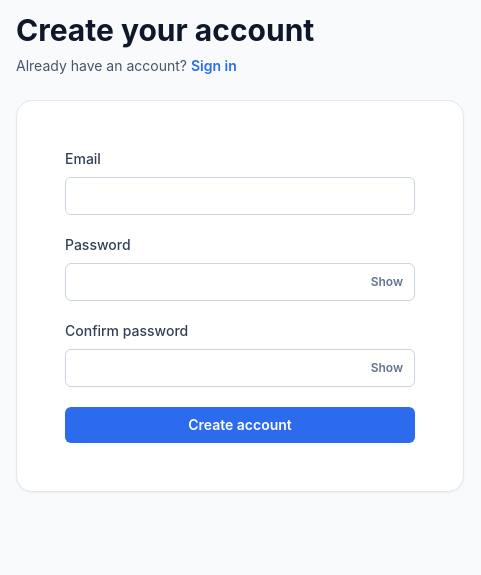
RegisterPage › shows error when passwords do not match
Type "test@example.com" into the field labelled "Email" at (240, 196), box [65,177,415,215]
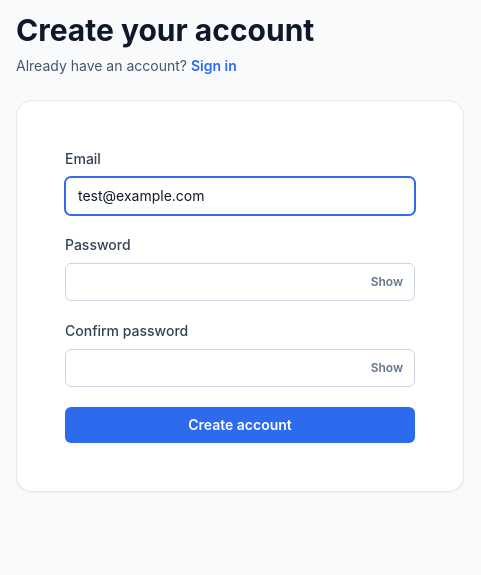
Type "password123" into the password field labelled "Password" at (240, 282), box [65,263,415,301]
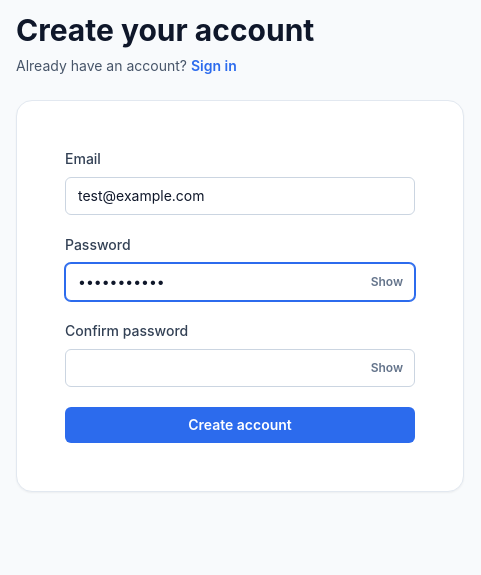
Type "differentpassword" into the password field labelled "Confirm password" at (240, 368), box [65,349,415,387]
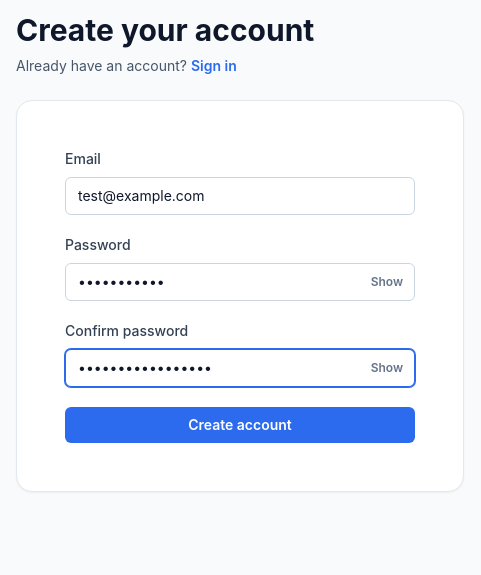
Click the button "Create account" at (240, 425), box [65,407,415,443]
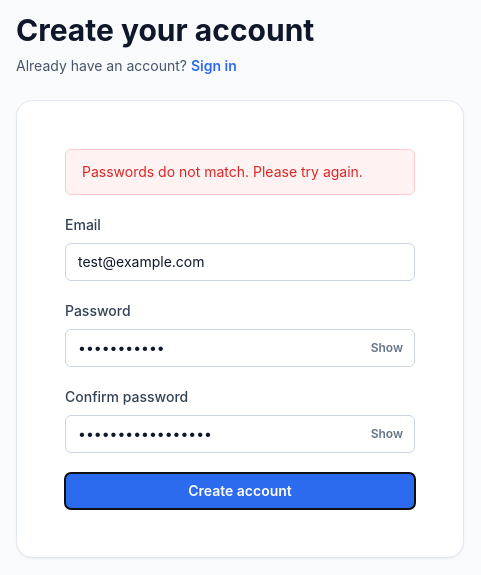
Check: the text "Passwords do not match. Please try again." is shown, box [65,149,415,195]
